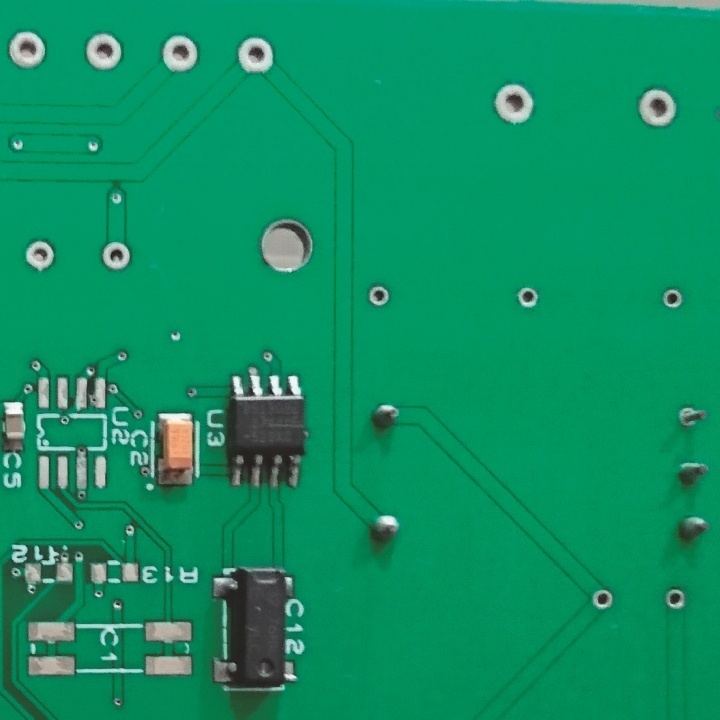F: (155, 29, 202, 78), (490, 78, 539, 124), (231, 35, 280, 78), (637, 82, 679, 132), (82, 30, 124, 76), (7, 26, 47, 71), (23, 238, 59, 275), (100, 240, 134, 273), (676, 403, 708, 429), (589, 585, 616, 615), (366, 281, 393, 309), (661, 283, 684, 314), (517, 283, 541, 312), (662, 586, 687, 611)
